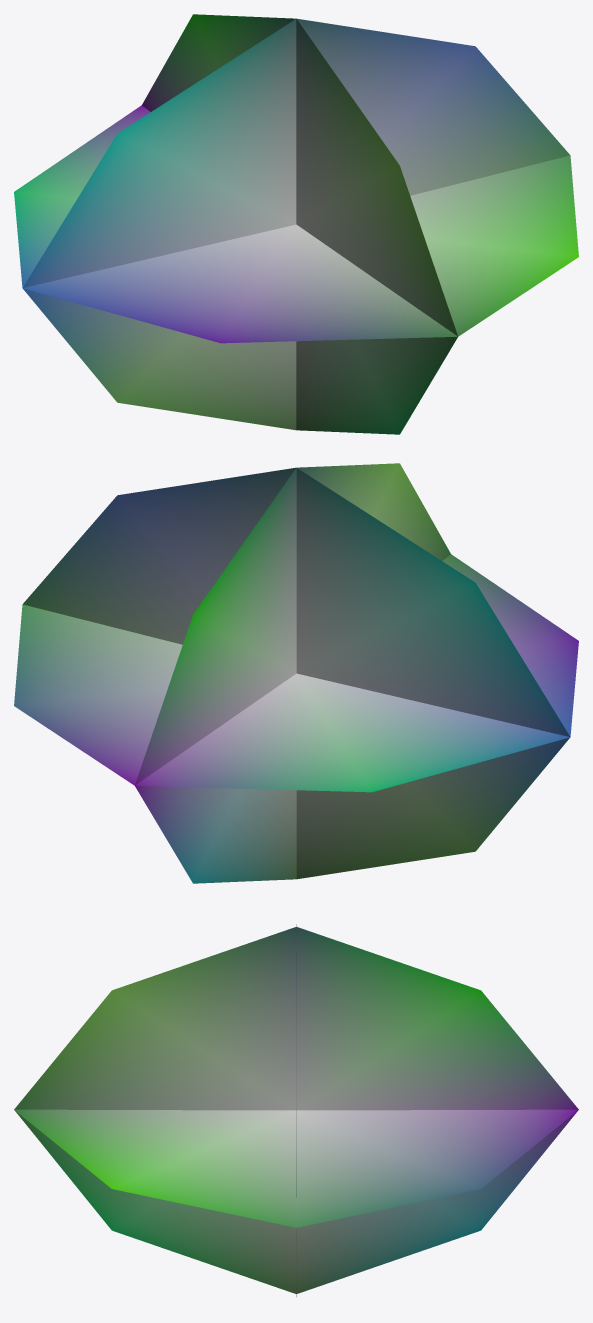
File: space-asteroids-crystal-asteroid_v6.glb
3 views of the same model, one above another, from view 1: azimuth 30°, elevation 25°; view 2: azimuth 150°, elevation 25°; view 3: azimuth 270°, elevation 25° (orthographic). The views are drawn at different scales.
Visible parts, largest first — view 1: Crystal Asteroid_v6; view 2: Crystal Asteroid_v6; view 3: Crystal Asteroid_v6.
Part boxes in pixels (x1,y1,x2,y2): Crystal Asteroid_v6: [14, 14, 578, 434]; Crystal Asteroid_v6: [14, 463, 578, 883]; Crystal Asteroid_v6: [14, 924, 578, 1296].
Size of the model in its own units: 100 by 71.78 by 100.
